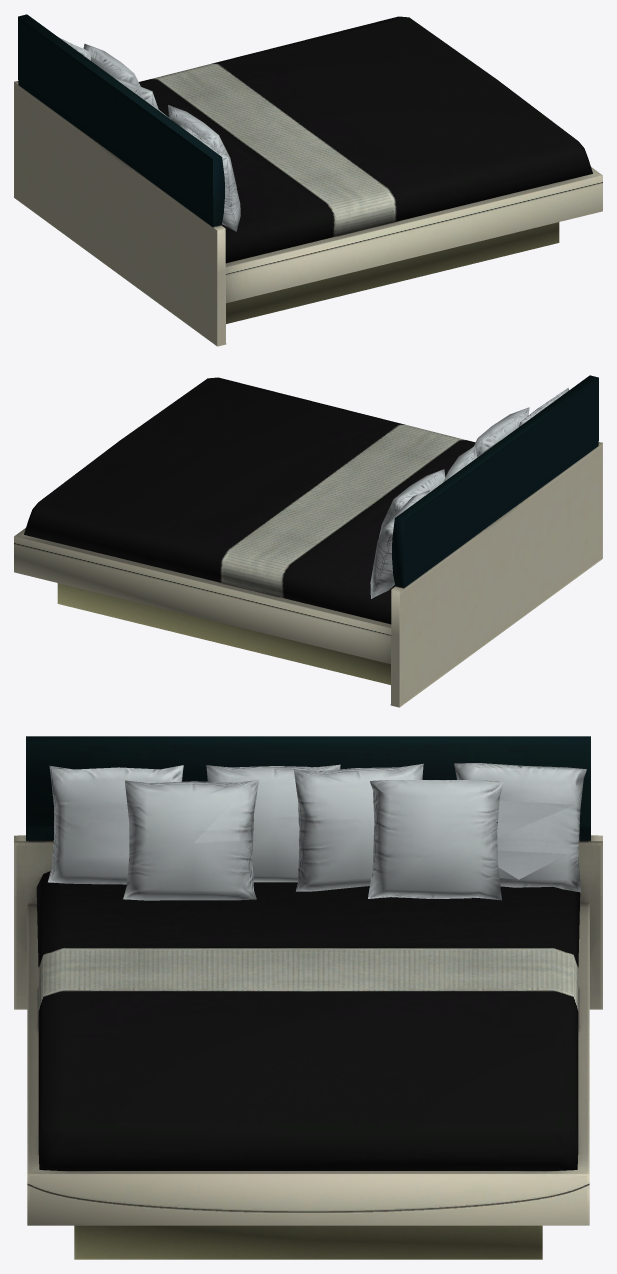
The model's file is Bed03.FBX.
3 renders of one model, top to bottom at view 1: azimuth 30°, elevation 25°; view 2: azimuth 150°, elevation 25°; view 3: azimuth 270°, elevation 25°, orthographic. The views are drawn at different scales.
Visible parts, largest first — view 1: Bed03; view 2: Bed03; view 3: Bed03.
Boxes of the visible parts, x1,y1,x2,y2 form: Bed03: (14,14,602,346); Bed03: (14,375,602,707); Bed03: (14,736,602,1259).
Size of the model in its own units: 2.67 by 1.21 by 2.41.
